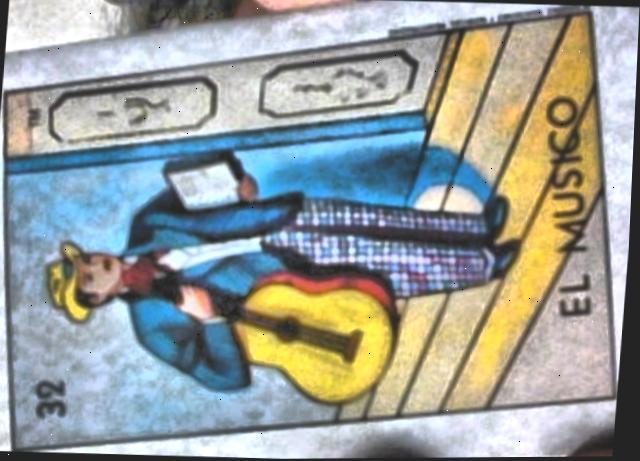El Musico: (3, 17, 611, 451)
